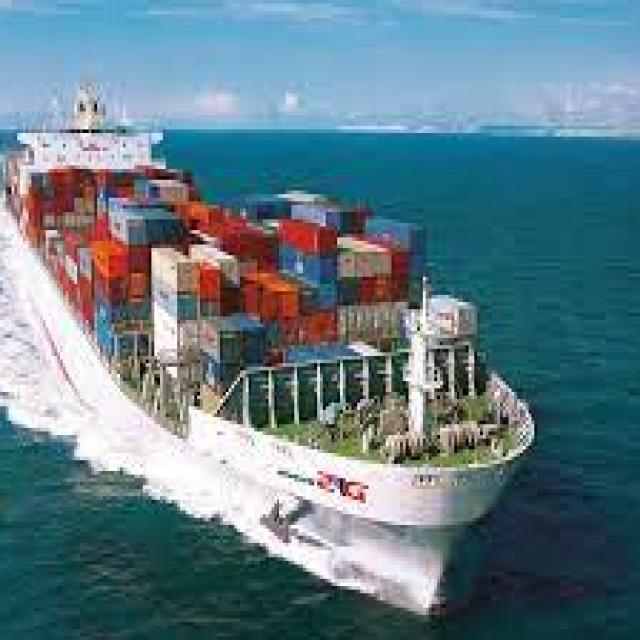cargoship: (0, 83, 540, 604)
